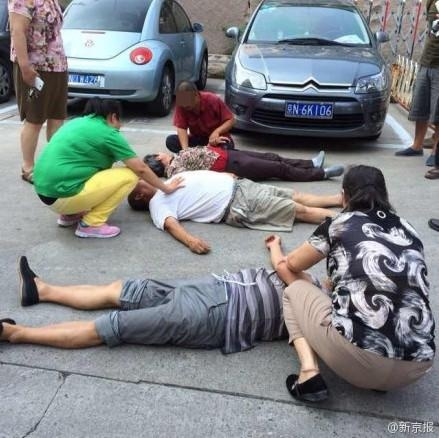falling: (140, 124, 344, 183)
